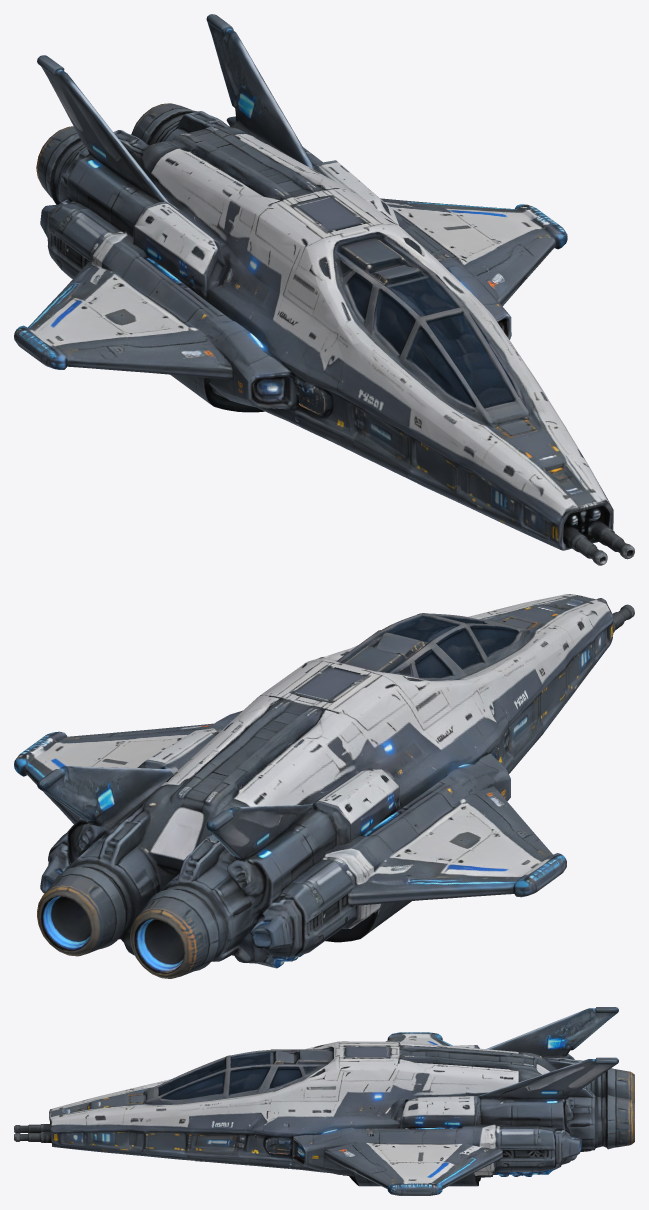
File: spaceship.glb
3 views of the same model, one above another, from view 1: azimuth 30°, elevation 25°; view 2: azimuth 150°, elevation 25°; view 3: azimuth 270°, elevation 25° (orthographic). The views are drawn at different scales.
Parts seen in each view (by area): view 1: Mesh_0; view 2: Mesh_0; view 3: Mesh_0.
Part boxes in pixels (box(x1,y1,x2,y2)): Mesh_0: box(14, 14, 634, 565); Mesh_0: box(14, 594, 634, 978); Mesh_0: box(14, 1007, 634, 1195).
Size of the model in its own units: 7.42 by 2.75 by 12.45.
Materials: 1 (1 with a texture image).
